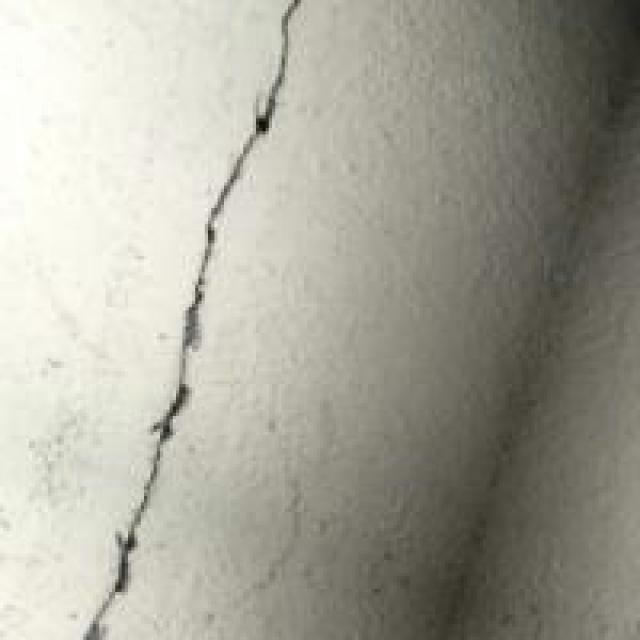SurfaceCrack: (82, 0, 308, 640)
